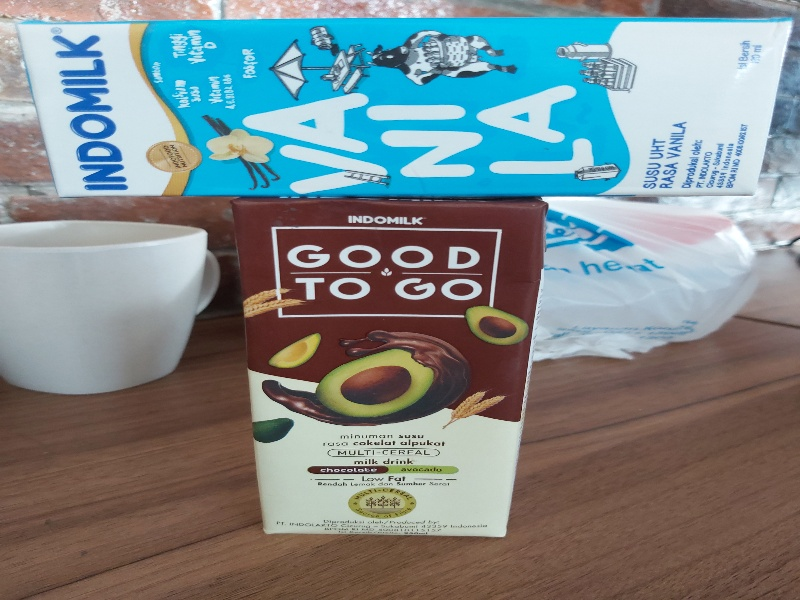cokelat: (221, 196, 549, 540)
vanilla: (16, 13, 793, 198)
